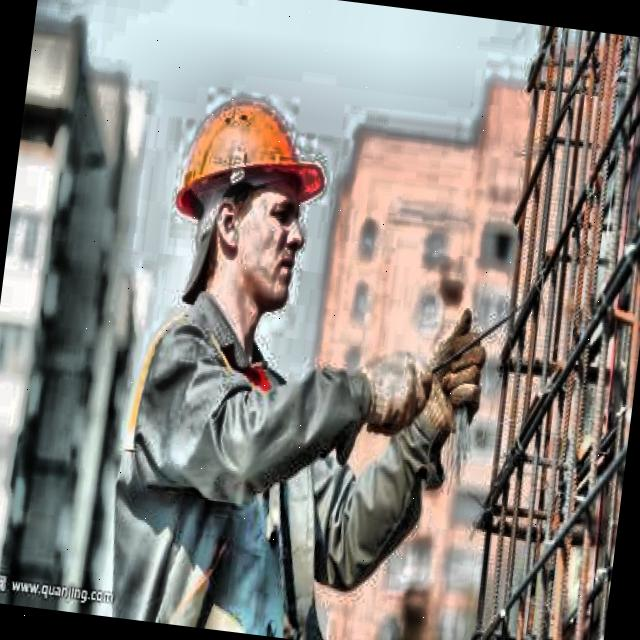helmet: (152, 60, 340, 340)
